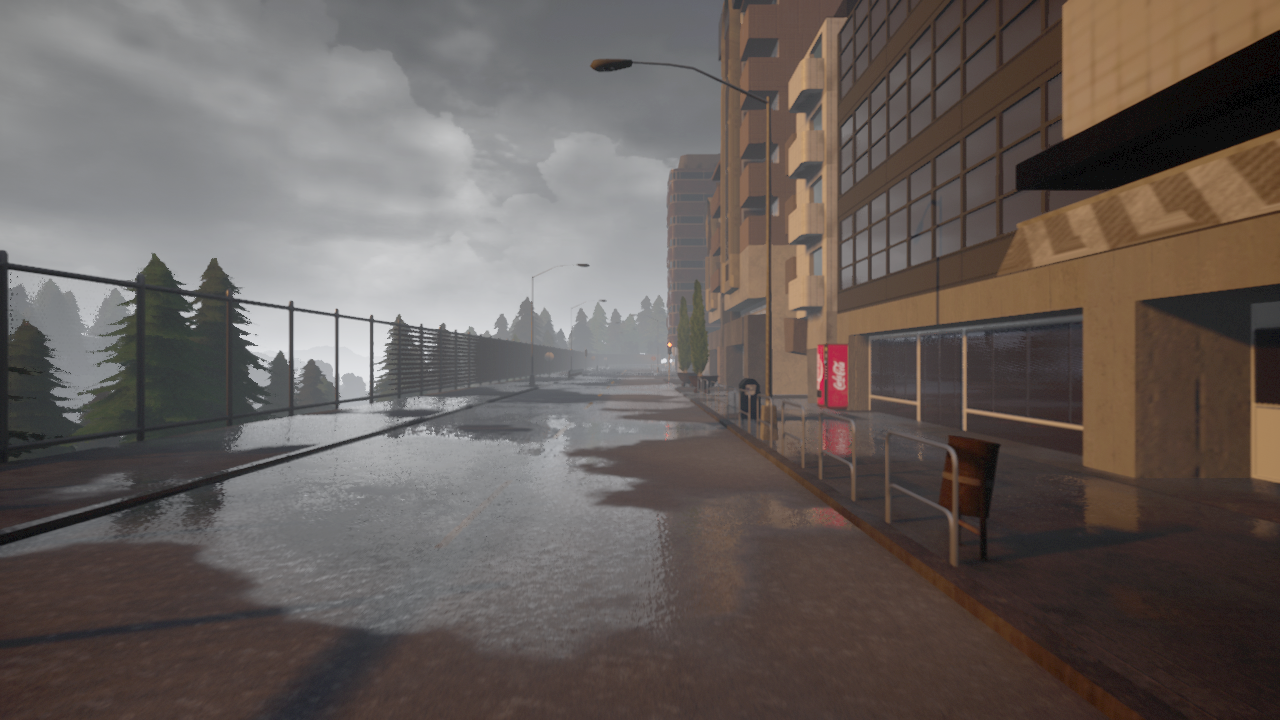red: (666, 341, 672, 355)
